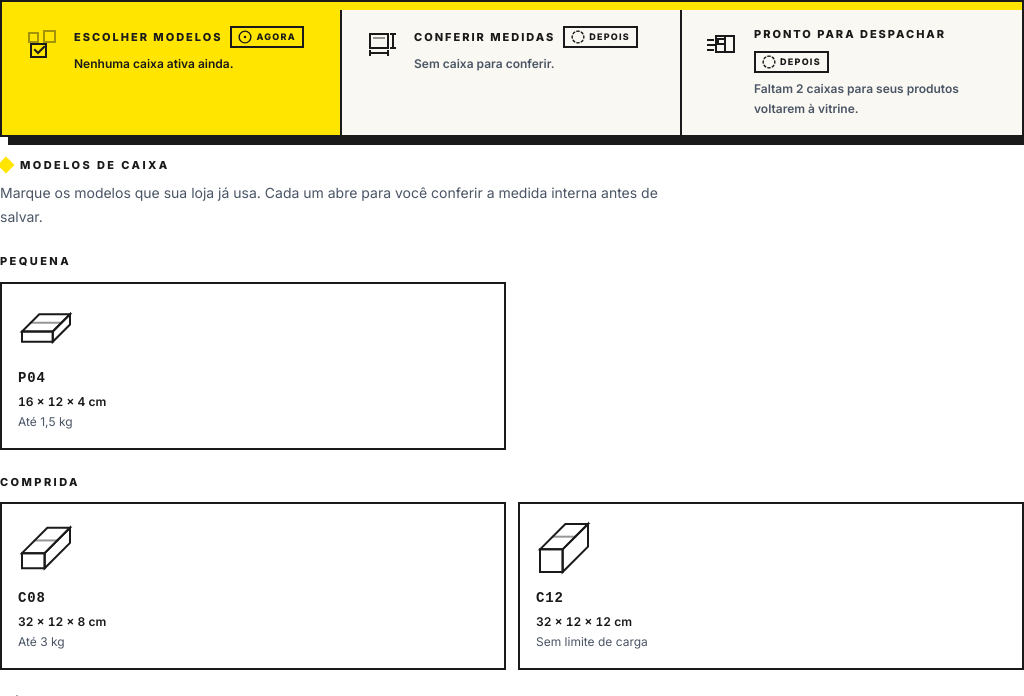
Test: VendorPackagingManager › abre a bancada já preenchida com o modelo P04, sem tara
The image size is (1024, 696).
Click the button "P04 16 × 12 × 4 cm Até 1,5 kg".
click(46, 328)  # box [0, 282, 506, 450]
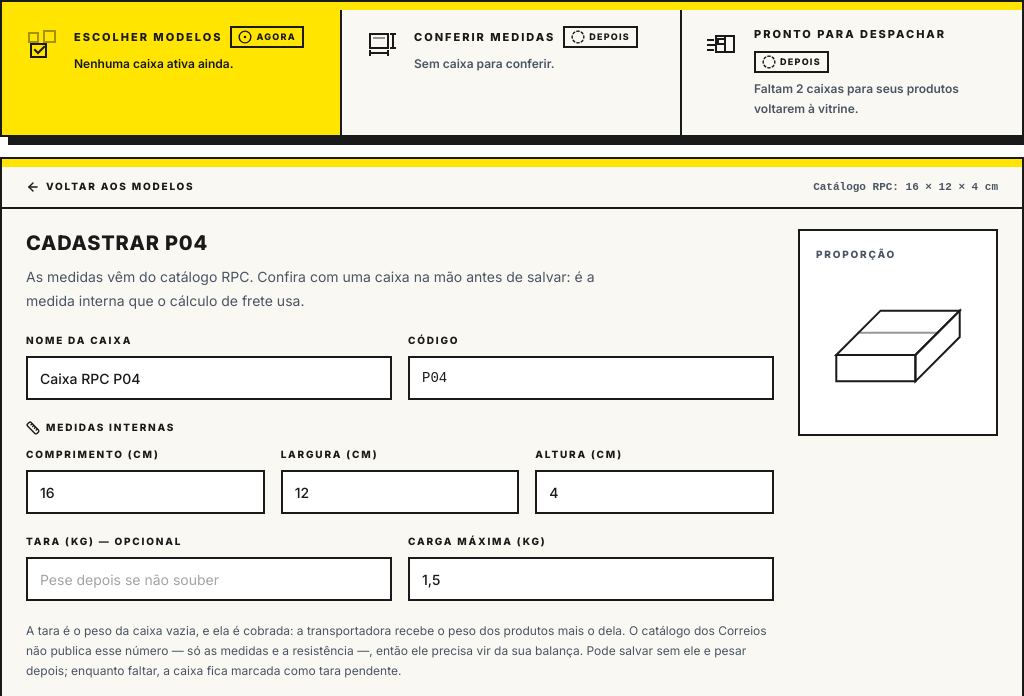
Now the field labelled "Código" holds "P04", box [408, 356, 774, 400]
Now the field labelled "Nome da caixa" holds "Caixa RPC P04", box [26, 356, 392, 400]
Now the field labelled "Comprimento (cm)" holds "16", box [26, 470, 265, 514]
